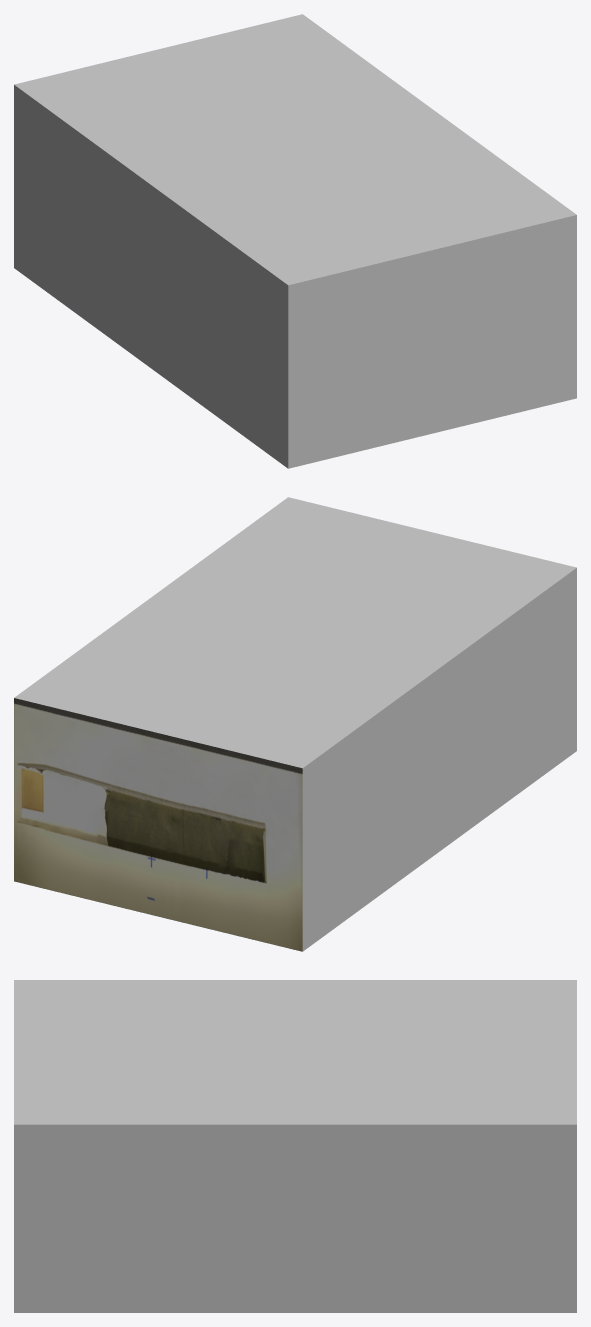
File: AllLabs.obj
3 renders of one model, top to bottom at view 1: azimuth 30°, elevation 25°; view 2: azimuth 150°, elevation 25°; view 3: azimuth 270°, elevation 25°, orthographic. The views are drawn at different scales.
Visible parts, largest first — view 1: pCube1 polySurface67 polySurface68 polySurface70 polySurface74 p, polySurface66 pCube1, pCube1 polySurface67 polySurface68 polySurface72 polySurface70; view 2: pCube1 polySurface67 polySurface68 polySurface70 polySurface74 p, pCube1 polySurface69 polySurface67, pCube1 polySurface67 polySurface68 polySurface72 polySurface70; view 3: pCube1 polySurface67 polySurface71 polySurface68, pCube1 polySurface67 polySurface68 polySurface70 polySurface74 p.
Part boxes in pixels (x1,y1,x2,y2): pCube1 polySurface67 polySurface68 polySurface70 polySurface74 p: (14,14,576,285); polySurface66 pCube1: (288,215,576,468); pCube1 polySurface67 polySurface68 polySurface72 polySurface70: (14,85,288,468); pCube1 polySurface67 polySurface68 polySurface70 polySurface74 p: (14,497,576,768); pCube1 polySurface69 polySurface67: (14,698,302,951); pCube1 polySurface67 polySurface68 polySurface72 polySurface70: (302,568,576,951); pCube1 polySurface67 polySurface71 polySurface68: (14,1124,576,1312); pCube1 polySurface67 polySurface68 polySurface70 polySurface74 p: (14,980,576,1124).
Size of the model in its own units: 648 by 395 by 1065.
